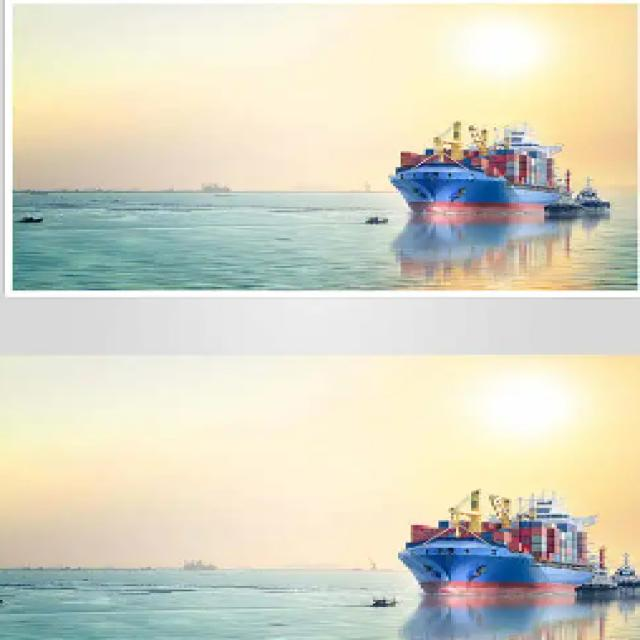cargoship: (371, 108, 588, 239), (396, 482, 598, 616)
